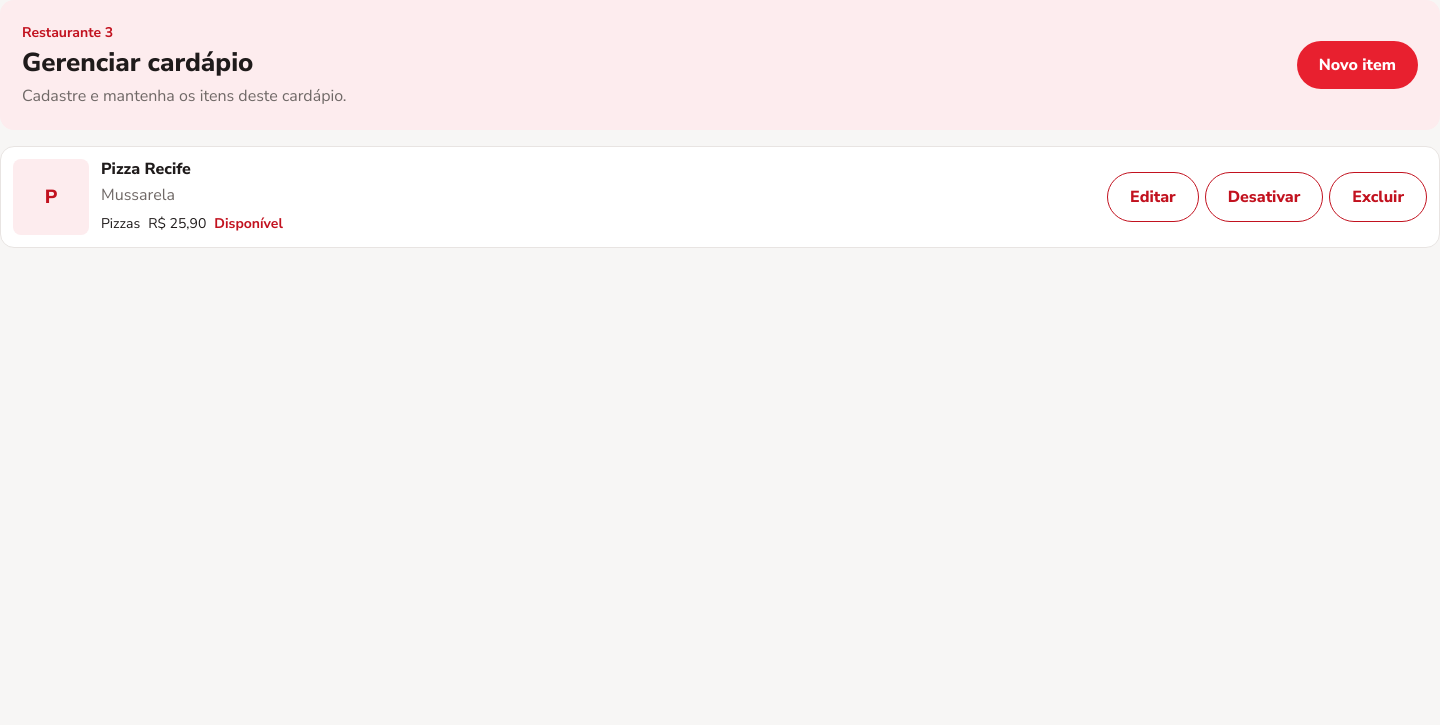
Test: PainelCardapio › não mostra no formulário reaberto o erro de um envio anterior
expect the heading "Pizza Recife" is shown: met, box [101, 158, 191, 180]
Click the button "Novo item".
click(1357, 65)  # box [1297, 41, 1418, 89]
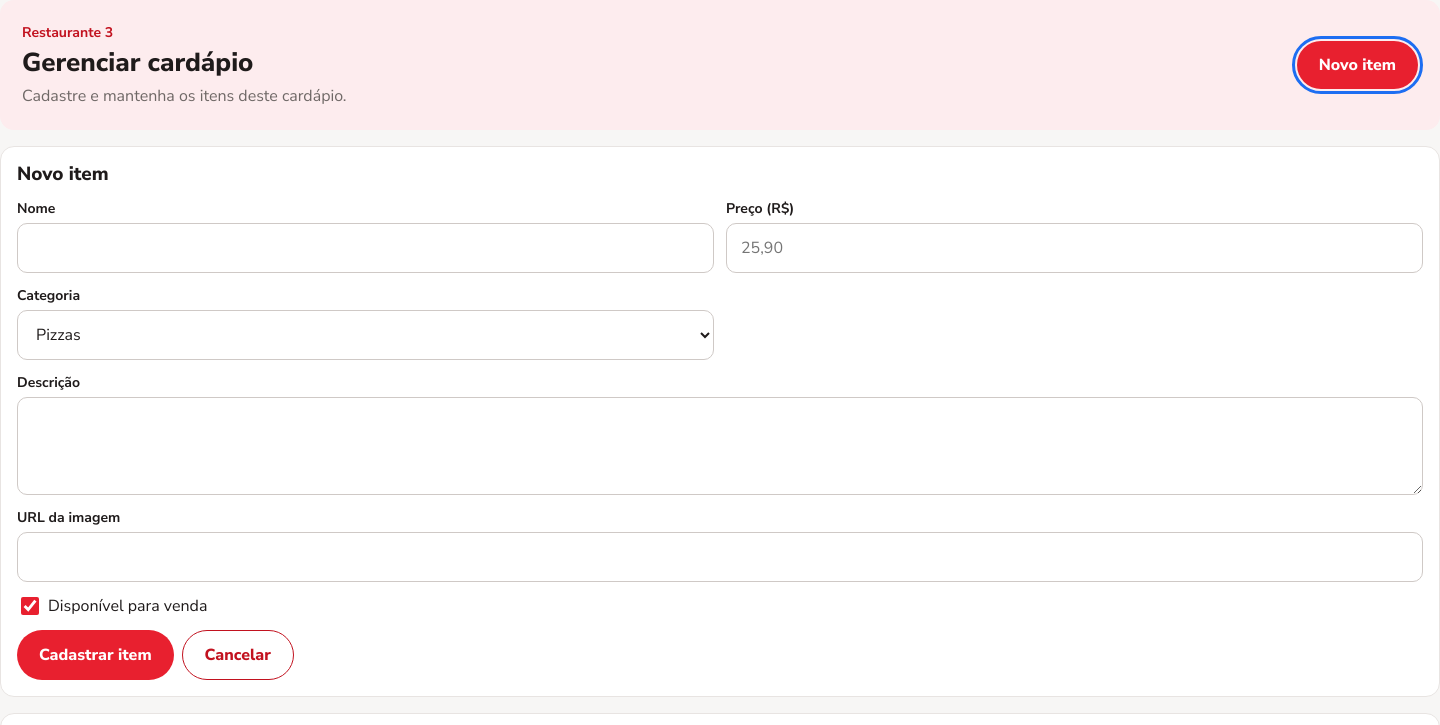
Type "Suco" into the field labelled "Nome".
click(366, 248); type("Suco")  # box [17, 223, 714, 273]
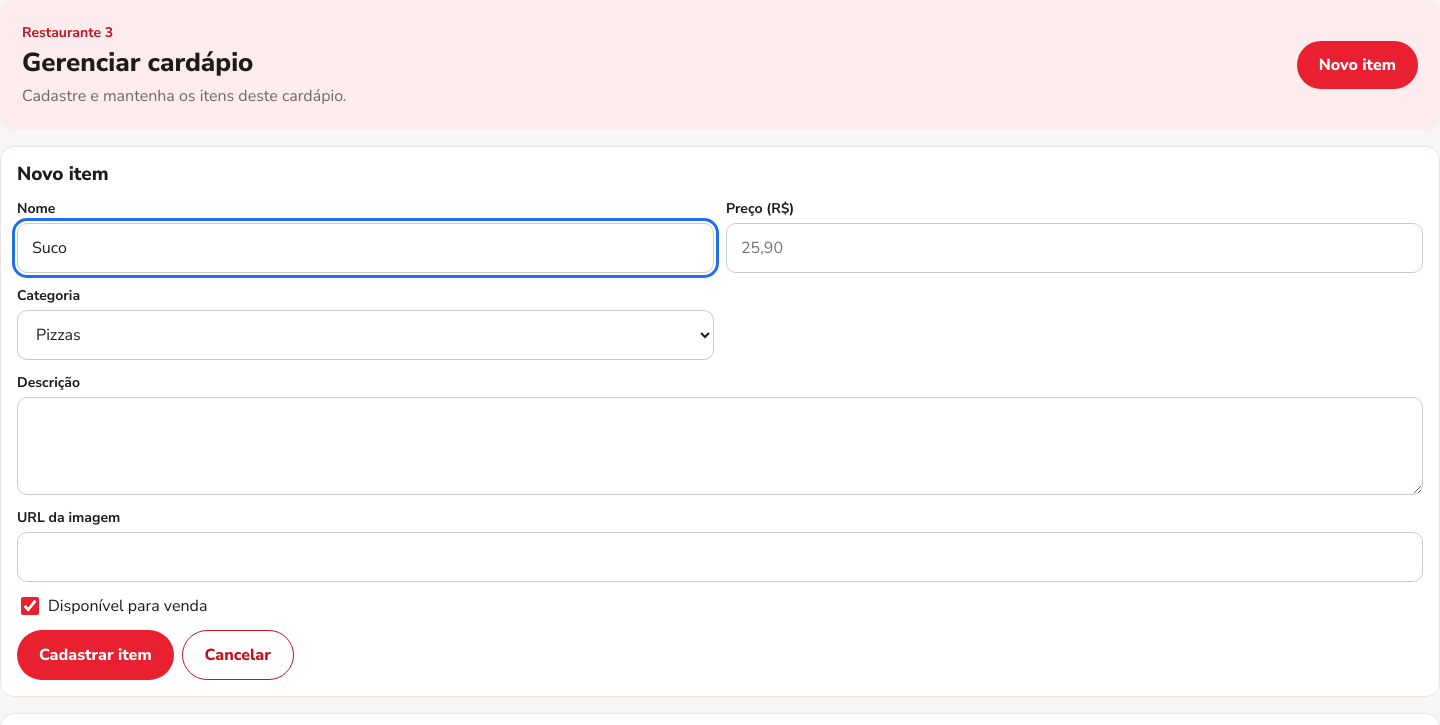
Type "5,00" into the field labelled "Preço (R$)".
click(1074, 248); type("5,00")  # box [726, 223, 1423, 273]
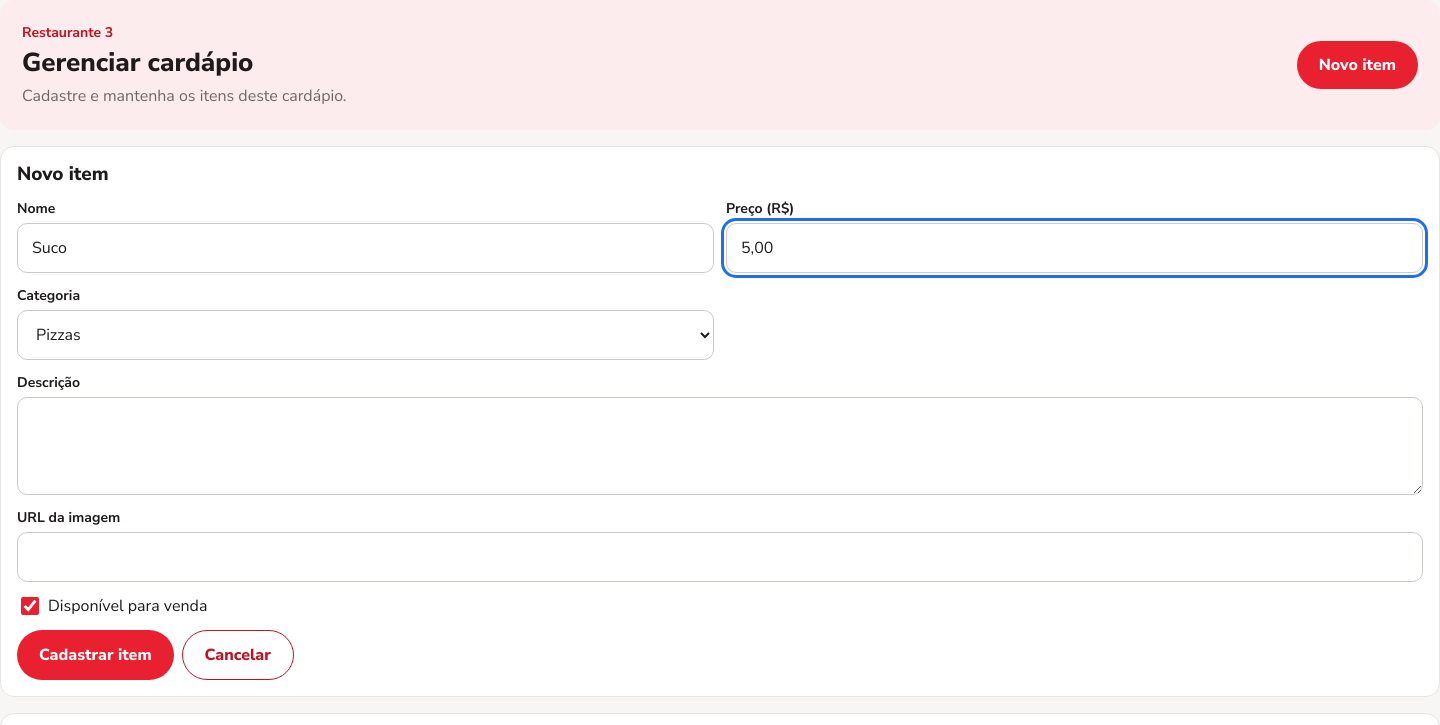
Click the button "Cadastrar item".
click(95, 655)  # box [17, 630, 174, 680]
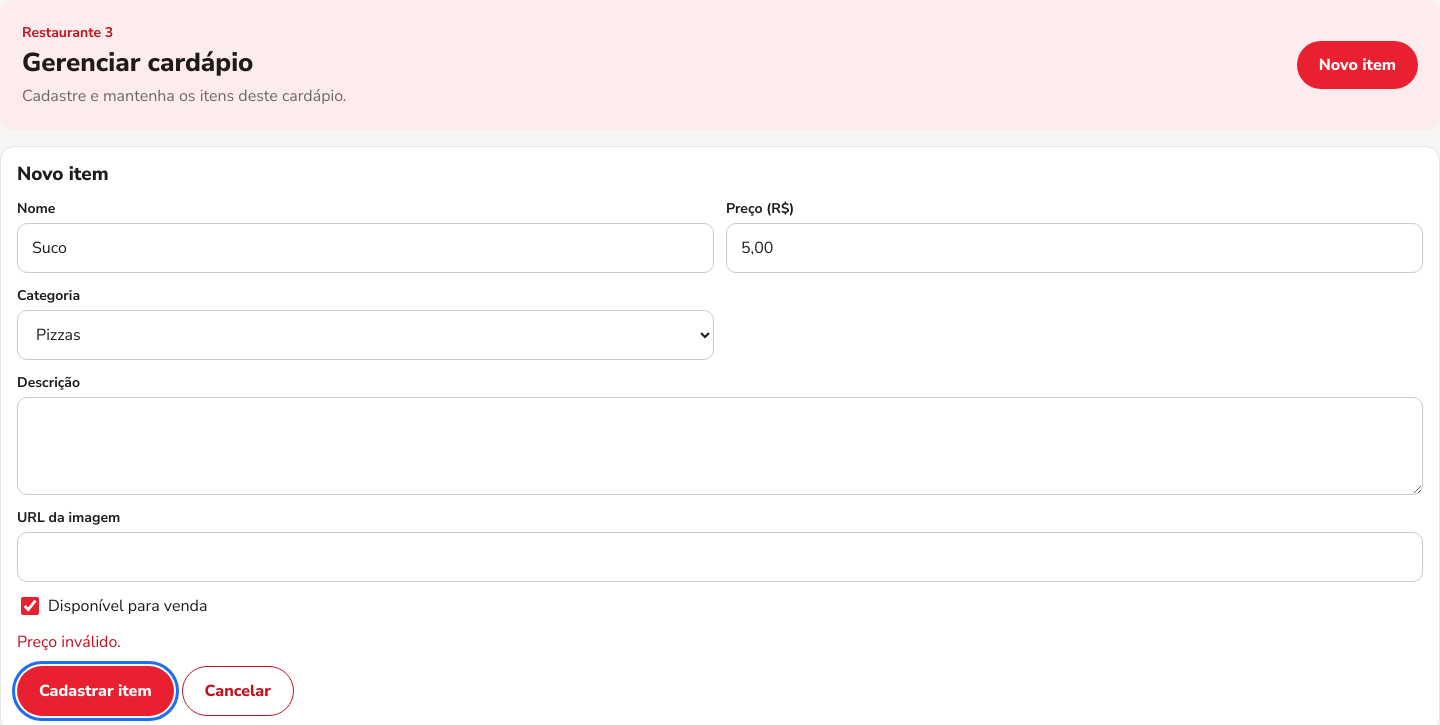
expect the text "Preço inválido." is shown: met, box [17, 631, 121, 653]
Click the button "Novo item".
click(1357, 65)  # box [1297, 41, 1418, 89]
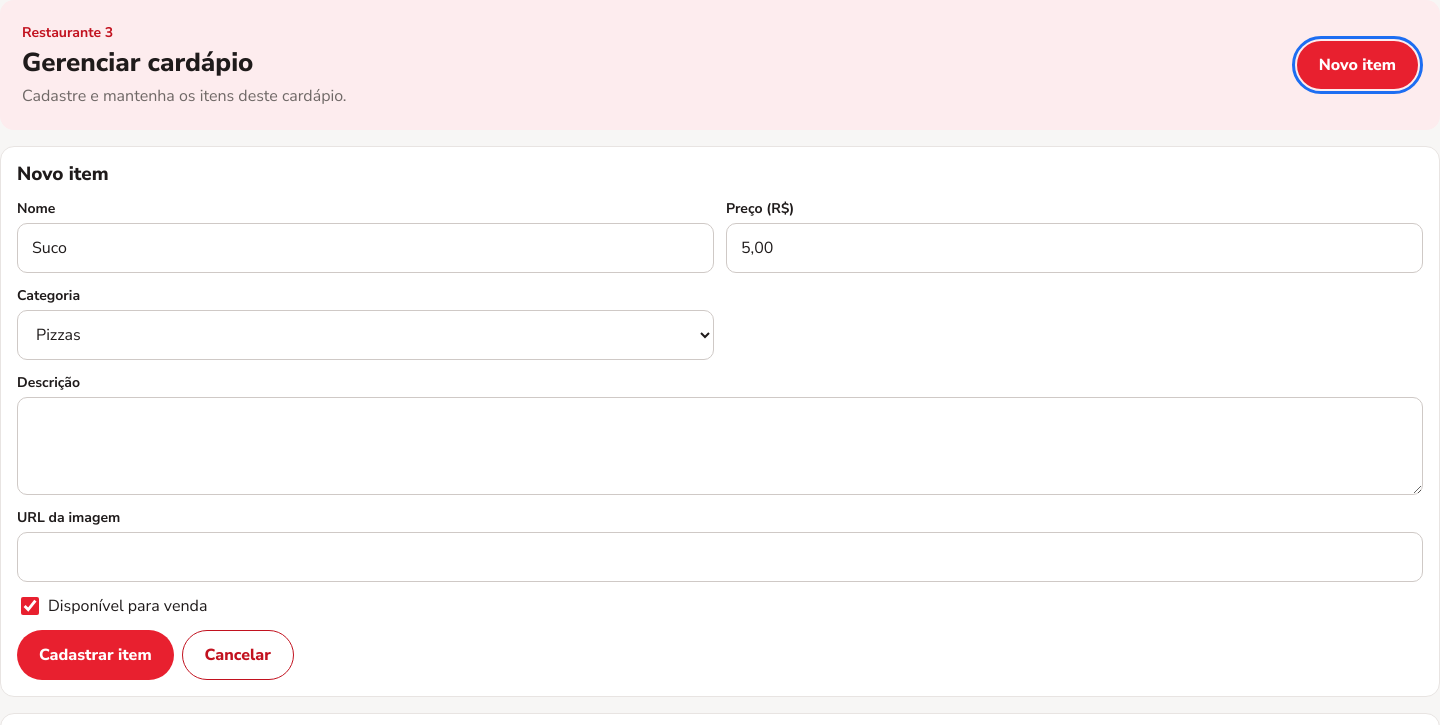
expect the text "Preço inválido." is gone: met
